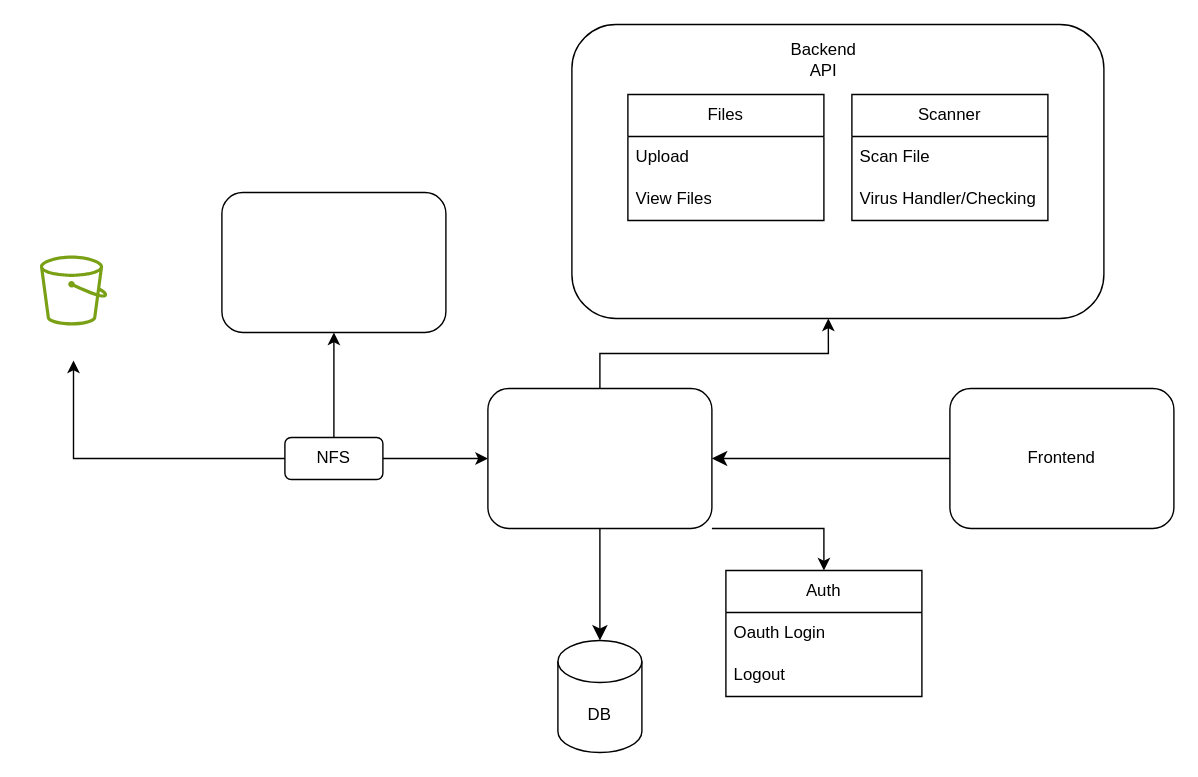
This 1198x777 diagram has some shape labels left out. Each missing label, with the centre of its shape:
"Backend" belongs at point 599,457.
"Clam AV" belongs at point 333,261.
"Clean Bucket" belongs at point 73,290.
